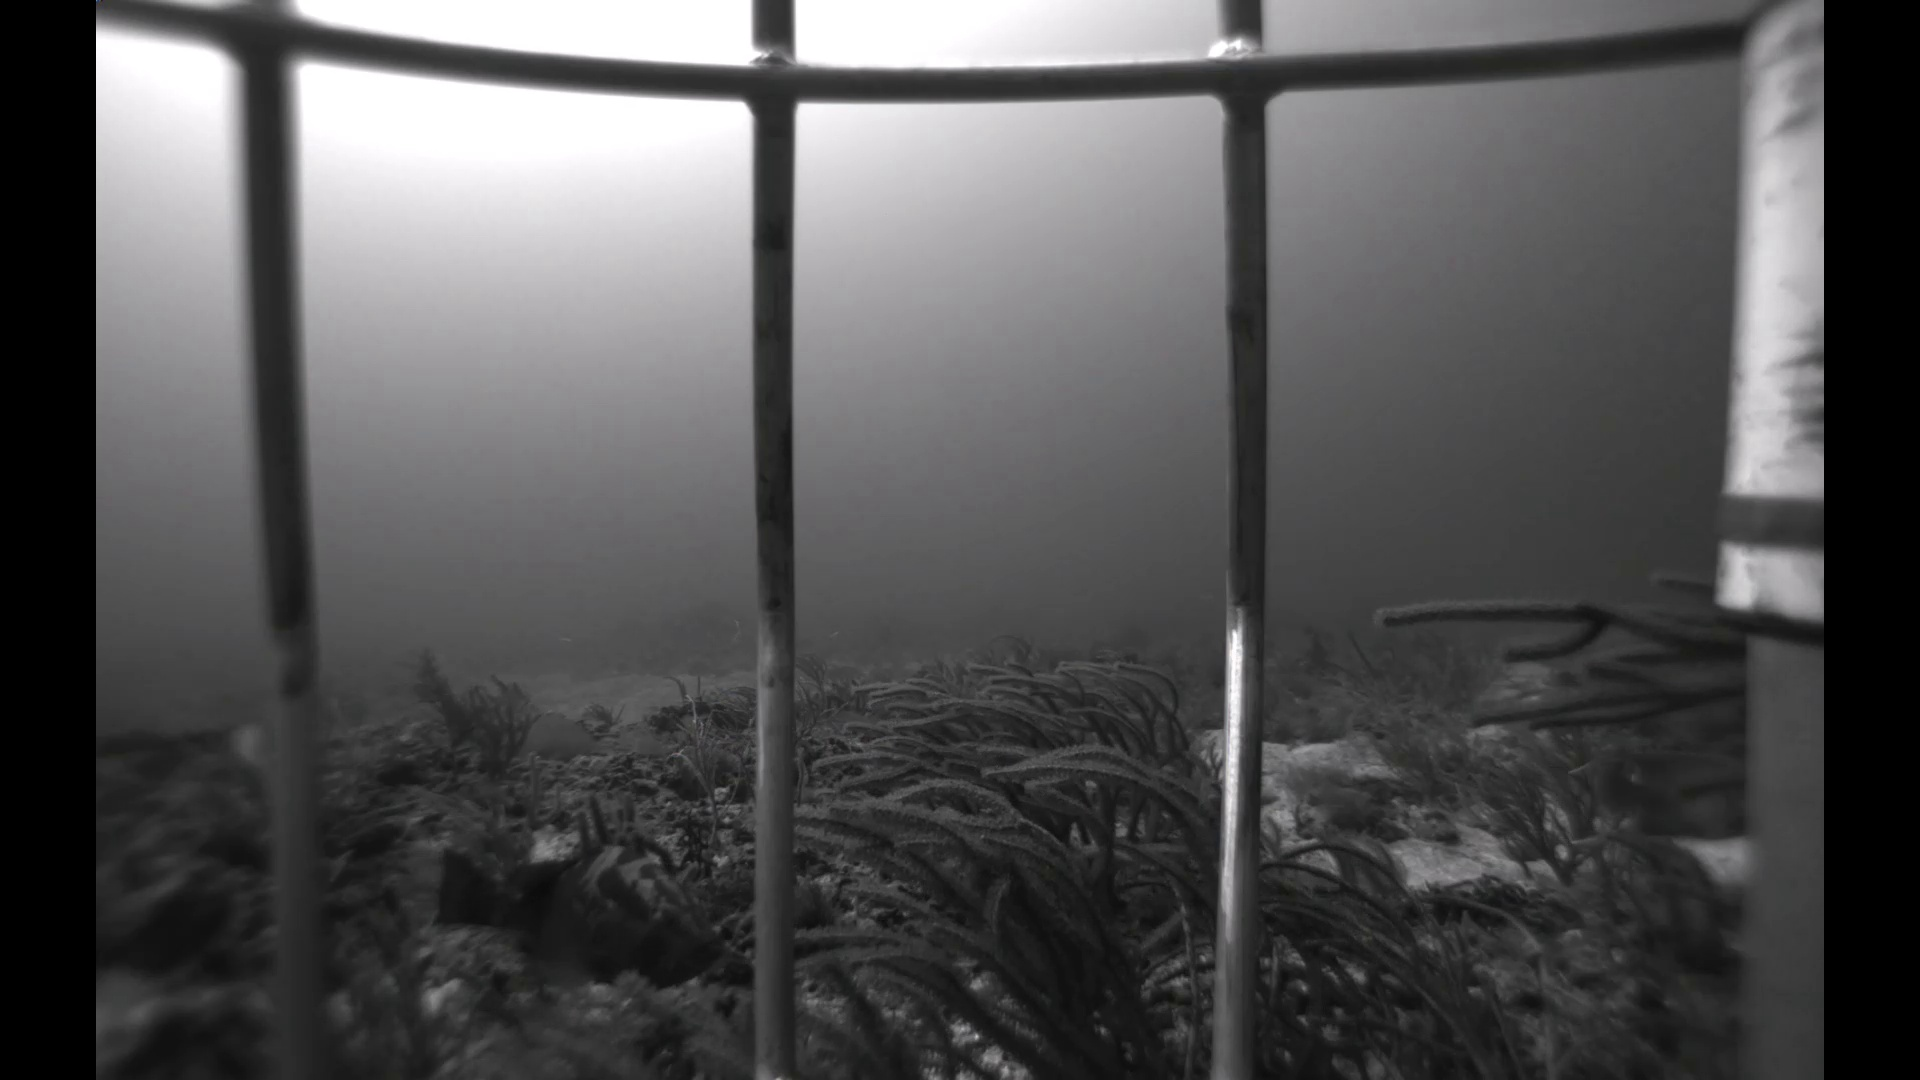CHAETODONOCELLATUS-170260307: (396, 836, 454, 909), (218, 713, 270, 773)
EPINEPHELUSMORIO-170021211: (406, 819, 733, 1004)
HOLACANTHUSBERMUDENSIS-170290102: (1553, 732, 1750, 864)
HYPOPLECTRUS-170021500: (1695, 812, 1747, 858)
IOGLOSSUS-170550800: (554, 633, 582, 650), (1193, 592, 1216, 604), (825, 628, 844, 640), (703, 626, 717, 641), (732, 630, 742, 644), (731, 617, 741, 628)
PAGRUSPAGRUS-170212302: (632, 593, 683, 622)
POMACENTRIDAE-170270000: (512, 716, 529, 733)
